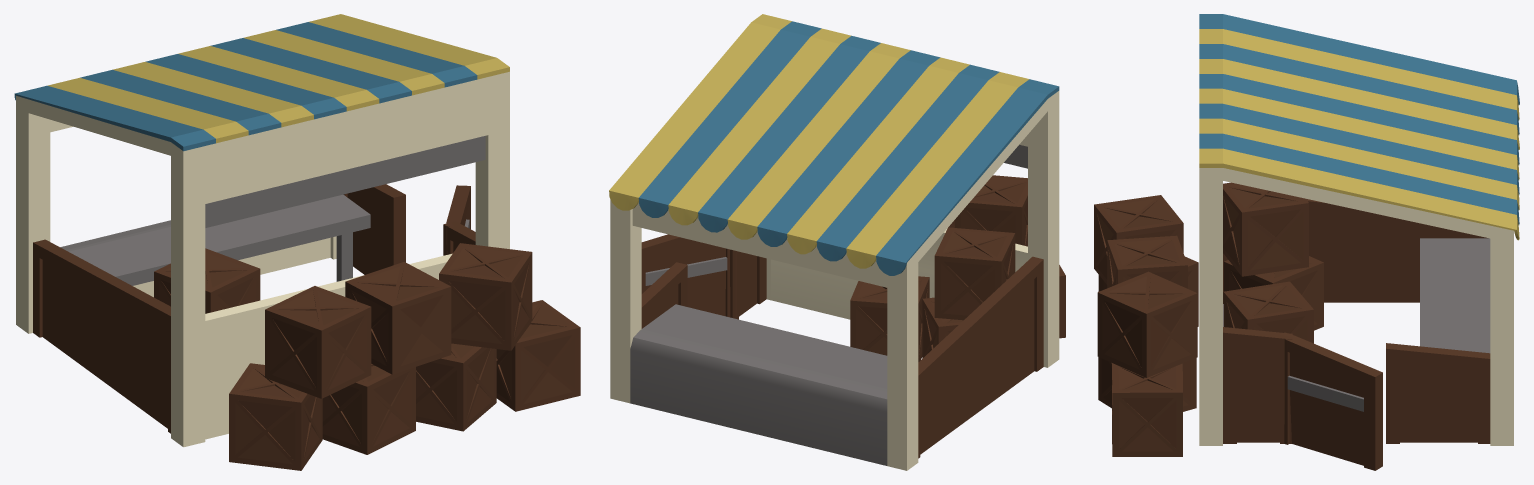
The model's file is shop.fbx.
3 views of the same model, side by side, from view 1: azimuth 30°, elevation 25°; view 2: azimuth 150°, elevation 25°; view 3: azimuth 270°, elevation 25° (orthographic). The views are drawn at different scales.
Visible parts, largest first — view 1: pCube30, pCube25, pCube27, pCube29, pCube24, pCube28, pCube23, pCube26, pCube21, Door1; view 2: pCube30, pCube21, Door1, pCube25, pCube22, pCube20, pCube24; view 3: pCube30, Door1, pCube29, pCube21, pCube28, pCube22, pCube25, pCube27, pCube20, pCube26, pCube24.
Part boxes in pixels (x1,y1,x2,y2): pCube30: [14, 14, 509, 447]; pCube25: [265, 286, 371, 398]; pCube27: [345, 262, 451, 374]; pCube29: [439, 243, 532, 350]; pCube24: [229, 363, 322, 470]; pCube28: [496, 300, 580, 411]; pCube23: [322, 364, 415, 454]; pCube26: [416, 343, 496, 431]; pCube21: [154, 248, 260, 313]; Door1: [446, 185, 470, 254]; pCube30: [609, 14, 1059, 470]; pCube21: [934, 227, 1015, 320]; Door1: [641, 234, 736, 318]; pCube25: [955, 175, 1027, 246]; pCube22: [850, 276, 929, 361]; pCube20: [922, 297, 963, 358]; pCube24: [1059, 265, 1065, 338]; pCube30: [1199, 14, 1519, 445]; Door1: [1280, 332, 1382, 470]; pCube29: [1097, 271, 1197, 377]; pCube21: [1223, 182, 1308, 276]; pCube28: [1112, 363, 1182, 456]; pCube22: [1223, 281, 1313, 343]; pCube25: [1094, 195, 1183, 284]; pCube27: [1107, 235, 1187, 288]; pCube20: [1224, 256, 1323, 330]; pCube26: [1098, 357, 1196, 411]; pCube24: [1098, 256, 1198, 326].
Size of the model in its own units: 17.51 by 13.2 by 18.05.
